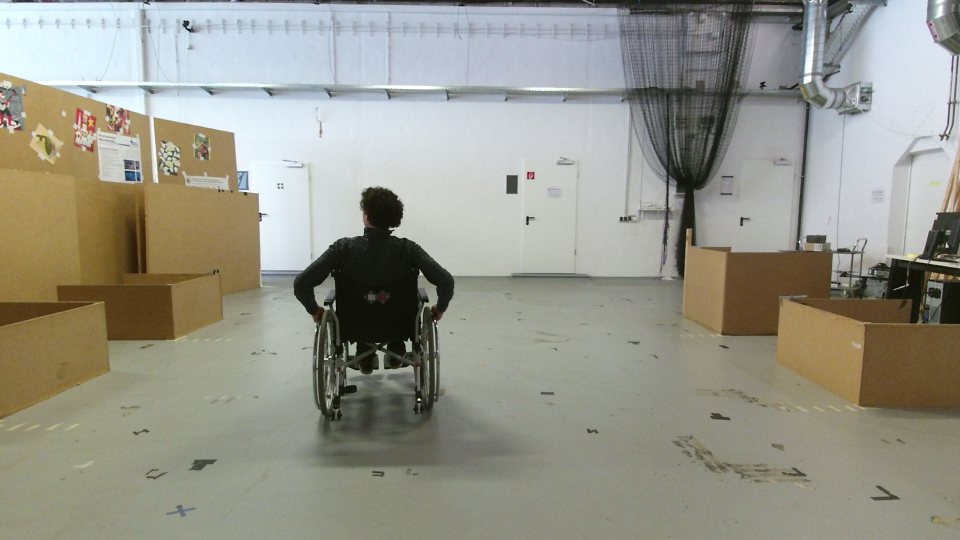wheelchair: (280, 179, 462, 424)
